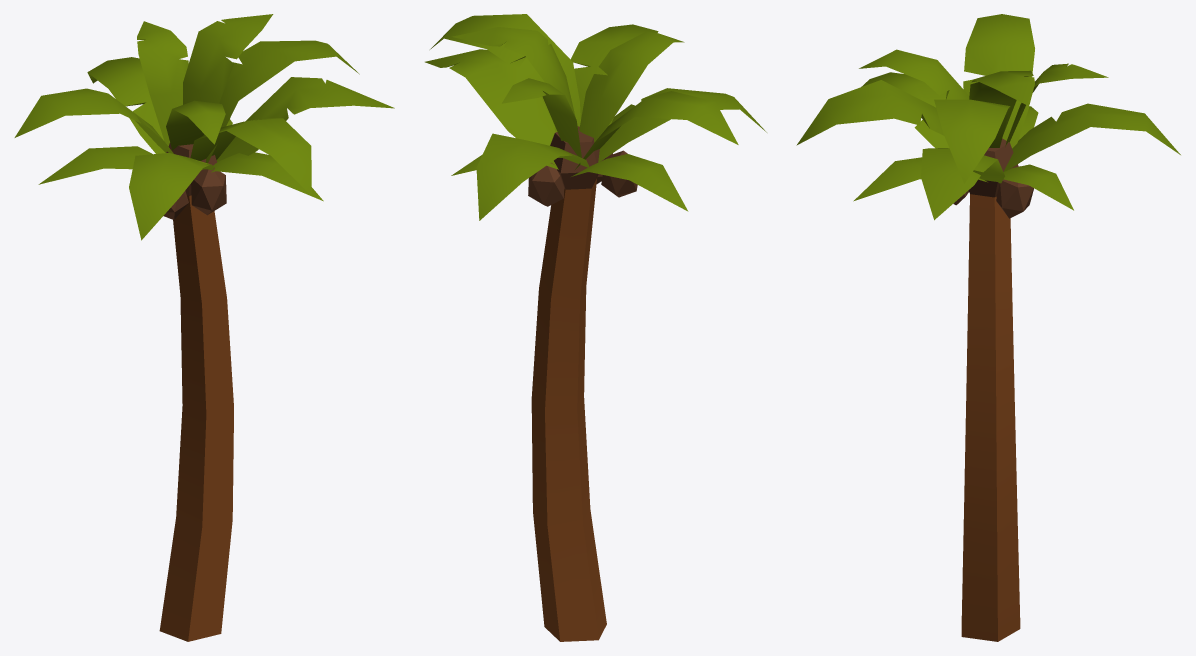
File: Palmtree2.fbx
3 views of the same model, side by side, from view 1: azimuth 30°, elevation 25°; view 2: azimuth 150°, elevation 25°; view 3: azimuth 270°, elevation 25° (orthographic).
Parts seen in each view (by area): view 1: Palmtree2; view 2: Palmtree2; view 3: Palmtree2.
Boxes of the visible parts, x1=… form: Palmtree2: x1=14, y1=14, x2=394, y2=641; Palmtree2: x1=425, y1=14, x2=766, y2=641; Palmtree2: x1=796, y1=14, x2=1180, y2=641.
Size of the model in its own units: 280 by 449 by 271.
